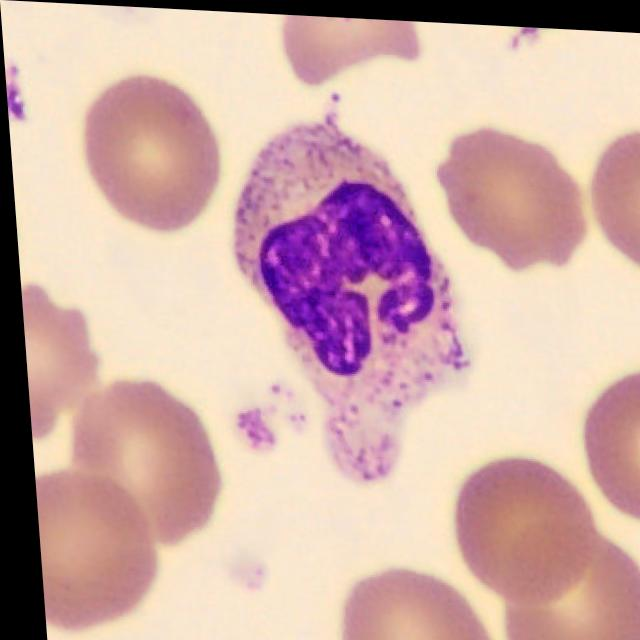Neutrofilo segmentado: (233, 93, 466, 426)
